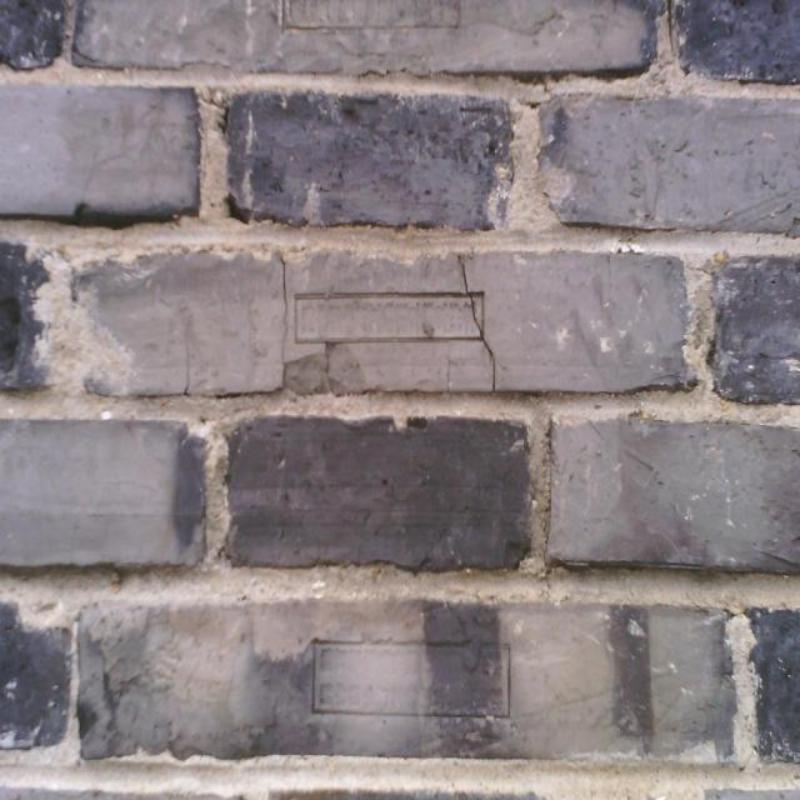pothole: (458, 254, 496, 391), (281, 258, 289, 362), (184, 332, 191, 396)
